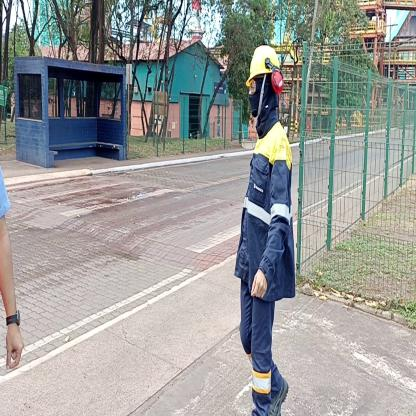Balaclava: (248, 77, 280, 125)
C_eletrica: (236, 122, 296, 296)
Capacete: (244, 43, 284, 78)
